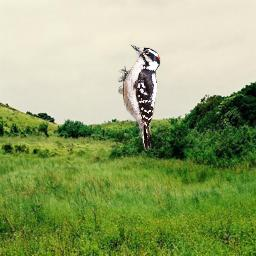Woodpecker: (118, 44, 161, 153)
